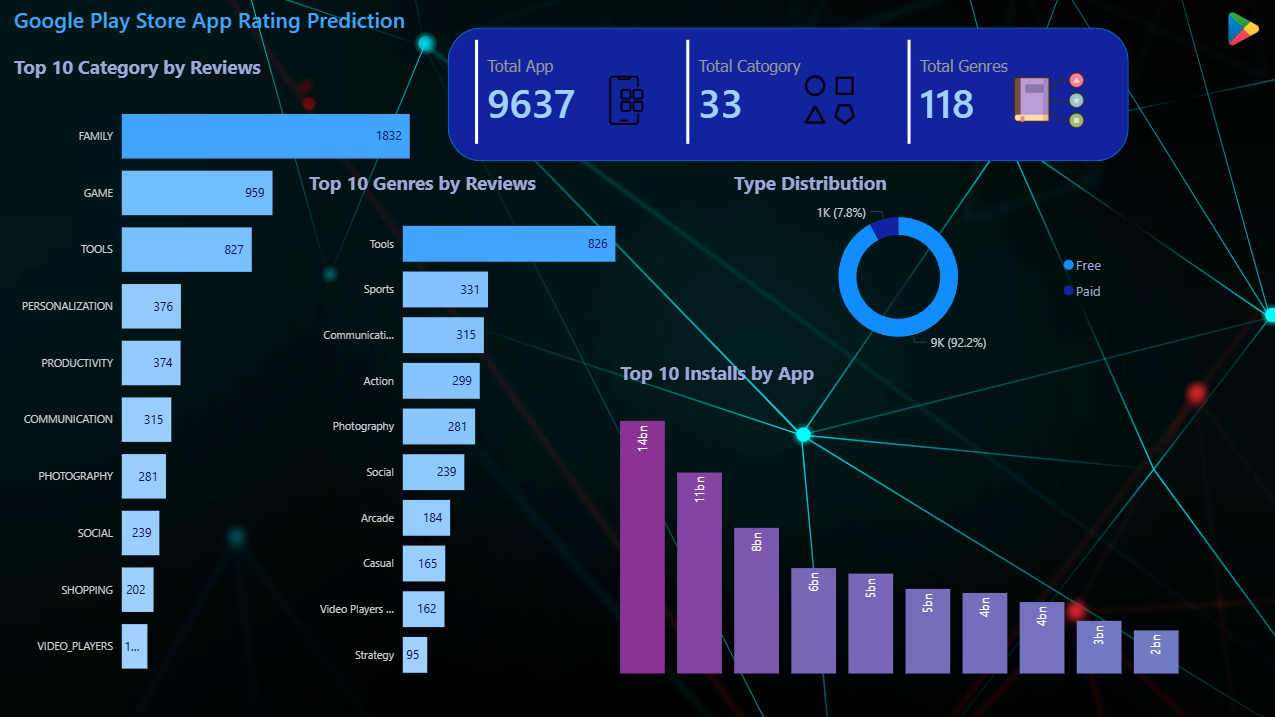

The dashboard page shown, as its layout file describes it:
{"tool":"powerbi","page":{"name":"Page 1","canvas":[1280,720],"ordinal":0},"visuals":[{"type":"textbox","box":[9.6,0,415.8,53.5],"z":0},{"type":"shape","box":[449.1,27,681,133.7],"z":1000},{"type":"cardVisual","fields":{"Data":["googleplaystore.Total App"]},"box":[471.2,35.6,192.6,114.1],"z":2000},{"type":"cardVisual","fields":{"Data":["googleplaystore.Total Catogory"]},"box":[682.2,35.6,192.6,114.1],"z":3000},{"type":"cardVisual","fields":{"Data":["googleplaystore.Total Genres"]},"box":[904.3,35.6,192.6,114.1],"z":4000},{"type":"image","box":[591.4,67.2,71.4,65.9],"z":5000},{"type":"image","box":[791.4,67.5,79.8,66.3],"z":6000},{"type":"image","box":[1002.5,57.7,94.5,85.9],"z":7000},{"type":"clusteredBarChart","title":"Top 10 Category by Reviews","fields":{"Category":["googleplaystore.Category"],"Y":["CountNonNull(googleplaystore.Category)"]},"box":[9.6,53.5,439.1,643.6],"z":8000},{"type":"clusteredBarChart","title":"Top 10 Genres by Reviews","fields":{"Category":["googleplaystore.Genres"],"Y":["CountNonNull(googleplaystore.Genres)"]},"box":[304.6,170.2,345.8,526.9],"z":9000},{"type":"donutChart","title":"Type Distribution","fields":{"Category":["googleplaystore.Type"],"Y":["CountNonNull(googleplaystore.Type)"]},"box":[730,170.2,387,189.4],"z":10000},{"type":"image","box":[1219.9,0,48,57.6],"z":11000},{"type":"columnChart","title":"Top 10 Installs by App","fields":{"Y":["googleplaystore.Total Installs"],"Category":["googleplaystore.Category"]},"box":[616.1,359.5,569.5,319.7],"z":12000}]}

Visuals, with their boxes in screenshot pixels (x1, y1, x2, y2), scaled from the page's 1280x720 canvas onto the 1275x717 screenshot:
textbox: BBox(10, 0, 424, 53)
shape: BBox(447, 27, 1126, 160)
cardVisual - googleplaystore.Total App: BBox(469, 35, 661, 149)
cardVisual - googleplaystore.Total Catogory: BBox(680, 35, 871, 149)
cardVisual - googleplaystore.Total Genres: BBox(901, 35, 1093, 149)
image: BBox(589, 67, 660, 133)
image: BBox(788, 67, 868, 133)
image: BBox(999, 57, 1093, 143)
"Top 10 Category by Reviews" clusteredBarChart: BBox(10, 53, 447, 694)
"Top 10 Genres by Reviews" clusteredBarChart: BBox(303, 169, 648, 694)
"Type Distribution" donutChart: BBox(727, 169, 1113, 358)
image: BBox(1215, 0, 1263, 57)
"Top 10 Installs by App" columnChart: BBox(614, 358, 1181, 676)
